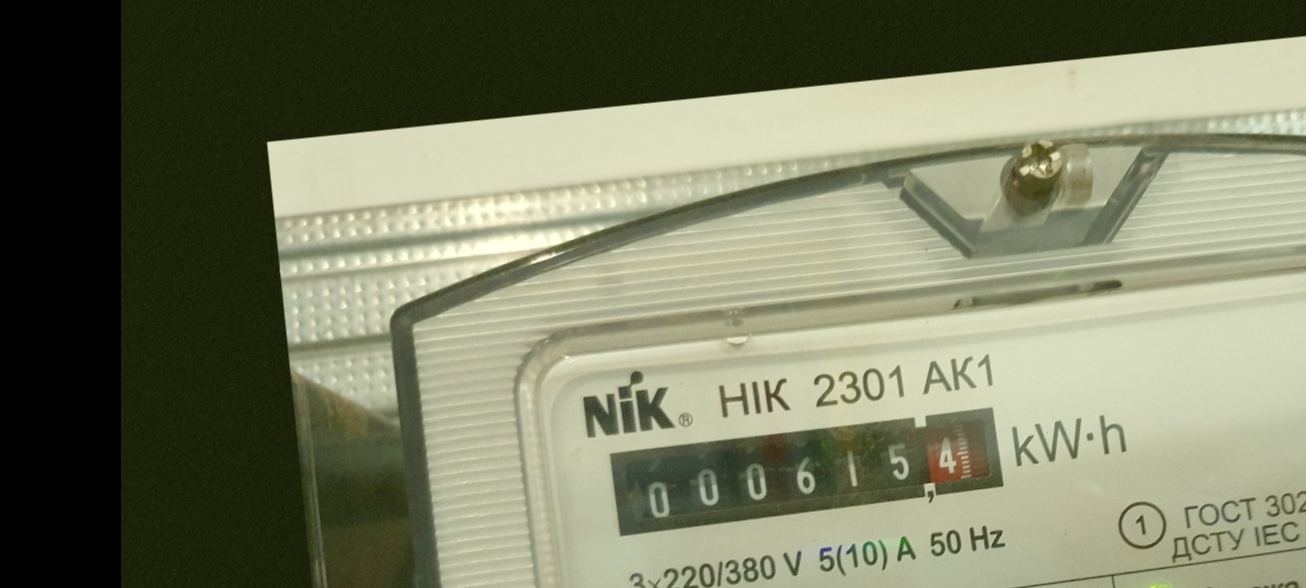0: (743, 460, 772, 505), (645, 478, 675, 521), (696, 466, 723, 508)
1: (845, 448, 862, 490)
4: (936, 434, 959, 477)
5: (887, 440, 914, 484)
6: (792, 454, 820, 497)
screen: (596, 395, 1020, 550)
